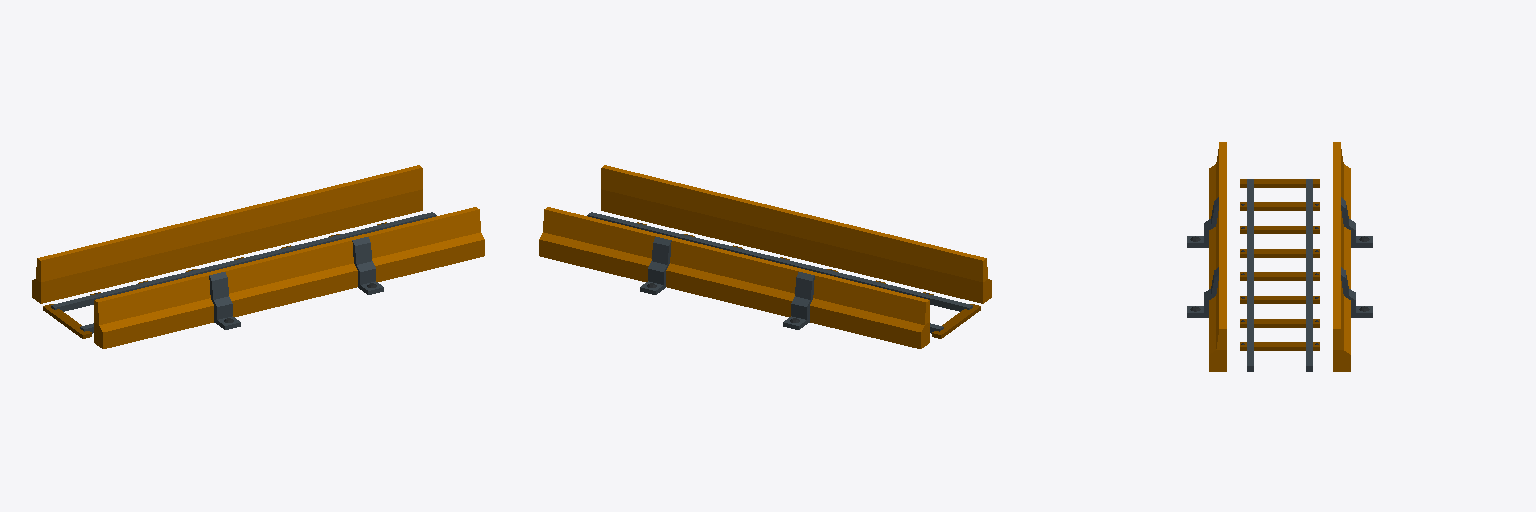
The picture shows the model from 3 angles: view 1: azimuth 30°, elevation 25°; view 2: azimuth 150°, elevation 25°; view 3: azimuth 270°, elevation 25°; orthographic projection.
Visible parts, largest first — view 1: Track1_Plane.028; view 2: Track1_Plane.028; view 3: Track1_Plane.028.
Boxes of the visible parts, box(x1,y1,x2,y2) form: Track1_Plane.028: box(32, 165, 484, 348); Track1_Plane.028: box(539, 165, 991, 348); Track1_Plane.028: box(1187, 142, 1372, 371).
Size of the model in its own units: 16.2 by 1.73 by 6.72.
1 materials, 1 textured.